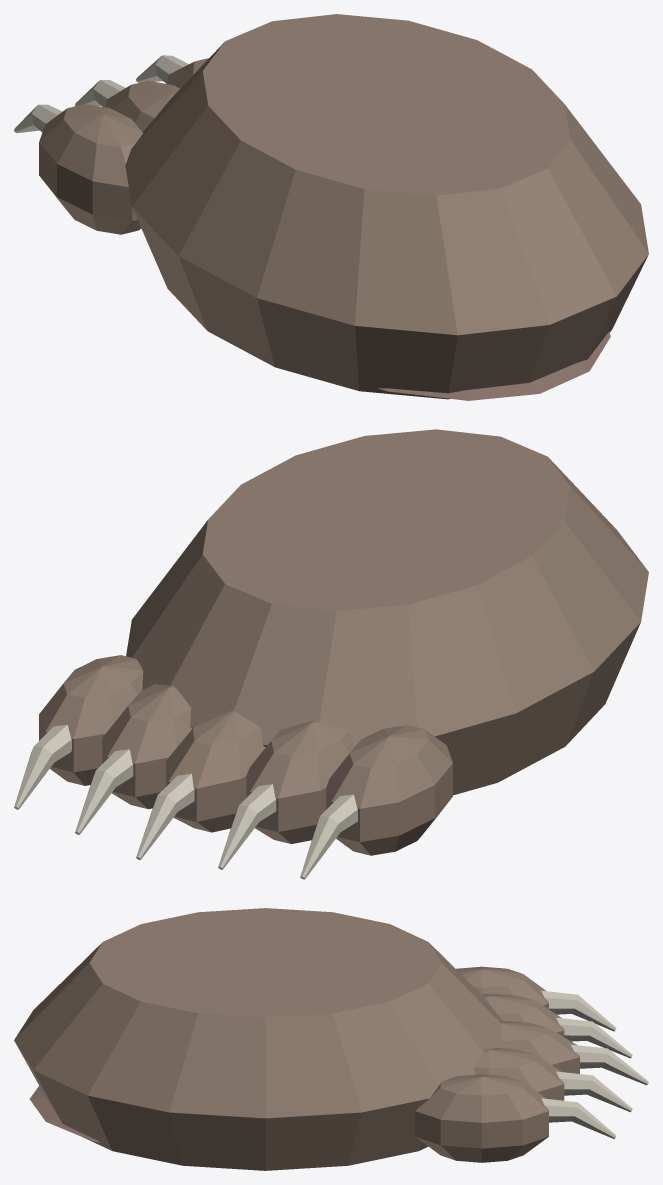
The model's file is bear_foot_hl_01.glb.
3 views of the same model, one above another, from view 1: azimuth 30°, elevation 25°; view 2: azimuth 150°, elevation 25°; view 3: azimuth 270°, elevation 25° (orthographic). The views are drawn at different scales.
Parts seen in each view (by area): view 1: HindLPaw, HindLToe0, HindLPalm, HindLToe1, HindLClaw2, HindLClaw0, HindLClaw1; view 2: HindLPaw, HindLToe0, HindLToe1, HindLToe2, HindLToe4, HindLToe3, HindLClaw2, HindLClaw3, HindLClaw1, HindLClaw4, HindLClaw0; view 3: HindLPaw, HindLToe4, HindLToe3, HindLToe2, HindLToe0, HindLToe1, HindLClaw2, HindLClaw3, HindLClaw4, HindLClaw1, HindLClaw0, HindLPalm.
Boxes of the visible parts, x1,y1,x2,y2 form: HindLPaw: (125,14,648,399); HindLToe0: (39,104,143,234); HindLPalm: (378,332,610,400); HindLToe1: (105,80,179,131); HindLClaw2: (136,55,188,83); HindLClaw0: (14,104,62,133); HindLClaw1: (75,80,125,106); HindLPaw: (126,429,648,795); HindLToe0: (326,725,452,855); HindLToe1: (246,721,354,843); HindLToe2: (166,711,265,832); HindLToe4: (39,655,143,785); HindLToe3: (102,684,191,809); HindLClaw2: (136,773,194,859); HindLClaw3: (75,749,133,834); HindLClaw1: (218,784,276,869); HindLClaw4: (14,724,71,809); HindLClaw0: (300,794,357,879); HindLPaw: (14,908,505,1170); HindLToe4: (415,1074,548,1162); HindLToe3: (473,1048,564,1100); HindLToe2: (501,1020,579,1073); HindLToe0: (456,966,548,1009); HindLToe1: (482,993,564,1036); HindLClaw2: (571,1044,648,1085); HindLClaw3: (556,1071,632,1112); HindLClaw4: (541,1098,616,1138); HindLClaw1: (556,1017,632,1058); HindLClaw0: (541,990,616,1031); HindLPalm: (29,1086,100,1142).
Bounding box in the file's own units: 0.25 × 0.1088 × 0.429.
